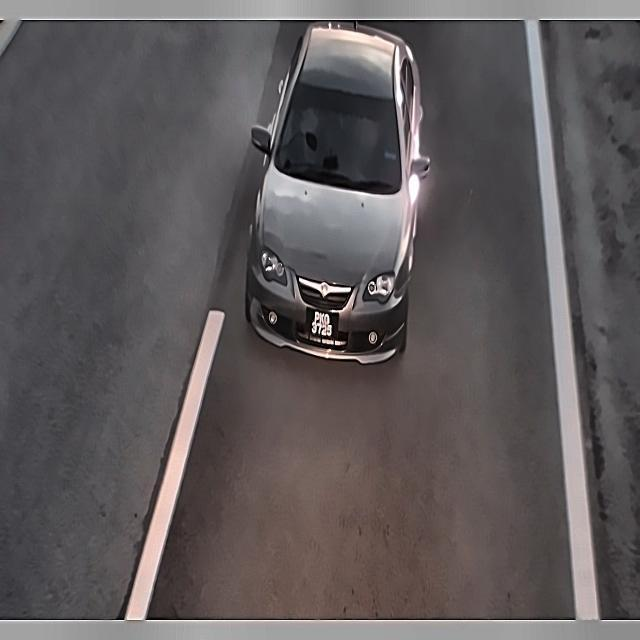car: (302, 306, 340, 350)
